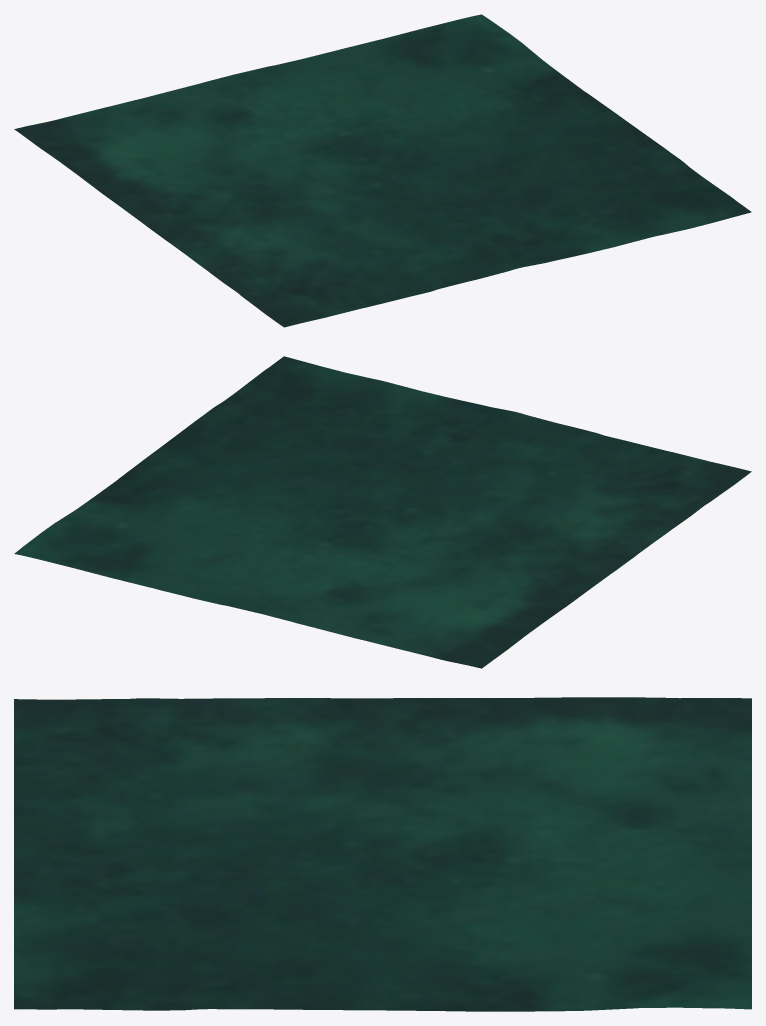
The picture shows the model from 3 angles, top to bottom: view 1: azimuth 30°, elevation 25°; view 2: azimuth 150°, elevation 25°; view 3: azimuth 270°, elevation 25°; orthographic projection. The views are drawn at different scales.
Size of the model in its own units: 52.22 by 0.4203 by 52.22.
2 materials, 2 textured.
